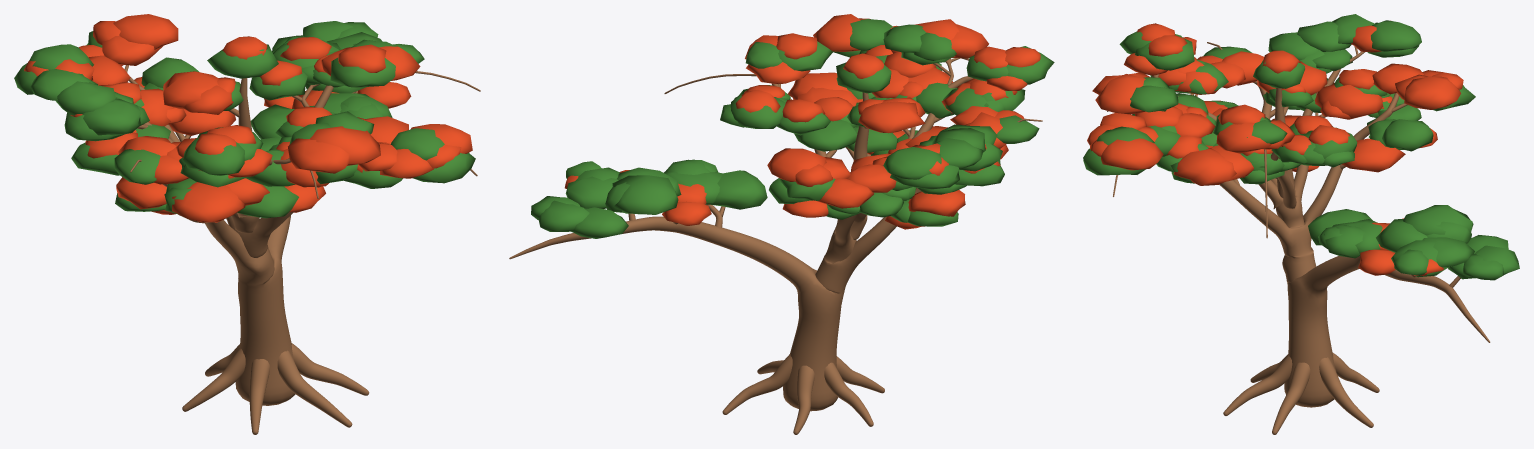
The model's file is flamboyant-b.glb.
The picture shows the model from 3 angles, left to right: view 1: azimuth 30°, elevation 25°; view 2: azimuth 150°, elevation 25°; view 3: azimuth 270°, elevation 25°; orthographic projection. The views are drawn at different scales.
Visible parts, largest first — view 1: bloom, foliage, wood, roots, boughs; view 2: foliage, bloom, wood, roots, boughs; view 3: foliage, bloom, wood, roots, boughs.
Part boxes in pixels (x1,y1,x2,y2): bloom: [24, 14, 472, 222]; foliage: [14, 21, 475, 218]; wood: [139, 78, 354, 405]; roots: [182, 343, 369, 434]; boughs: [124, 65, 480, 223]; foliage: [531, 19, 1054, 238]; bloom: [564, 14, 1040, 229]; wood: [509, 76, 973, 411]; roots: [722, 354, 884, 434]; boughs: [628, 58, 1042, 227]; foliage: [1083, 14, 1519, 280]; bloom: [1087, 23, 1463, 275]; wood: [1152, 69, 1490, 407]; roots: [1223, 353, 1379, 434]; boughs: [1107, 42, 1460, 287].
Bounding box in the file's own units: 16.45 × 13.59 × 16.28.
